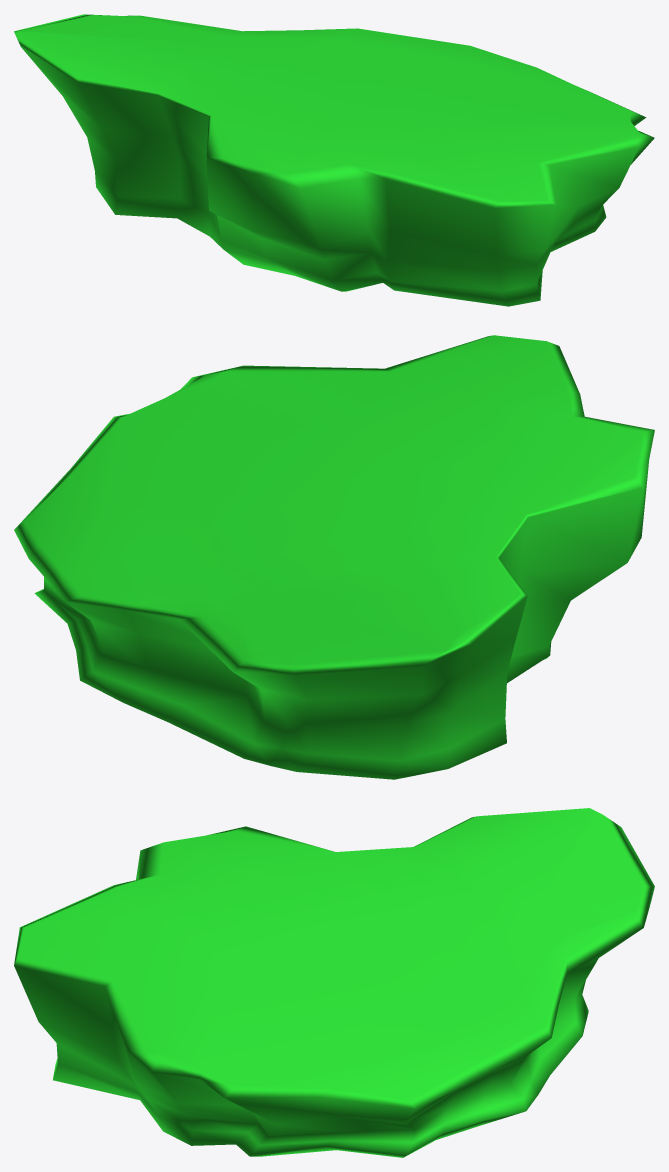
The model's file is flat_rock_02.fbx.
3 renders of one model, top to bottom at view 1: azimuth 30°, elevation 25°; view 2: azimuth 150°, elevation 25°; view 3: azimuth 270°, elevation 25°, orthographic. The views are drawn at different scales.
Parts seen in each view (by area): view 1: rock_flat_02; view 2: rock_flat_02; view 3: rock_flat_02.
Part boxes in pixels (bbox=[...]): rock_flat_02: bbox=[14, 14, 654, 306]; rock_flat_02: bbox=[14, 335, 654, 779]; rock_flat_02: bbox=[14, 808, 654, 1157].
Size of the model in its own units: 1403 by 424 by 1677.
